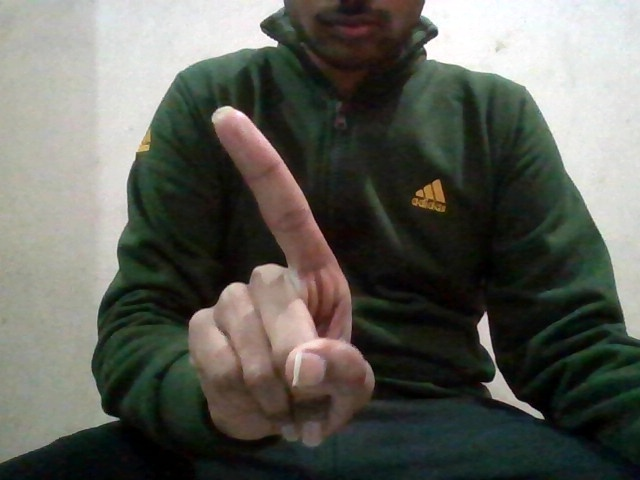D: (162, 103, 377, 446)
